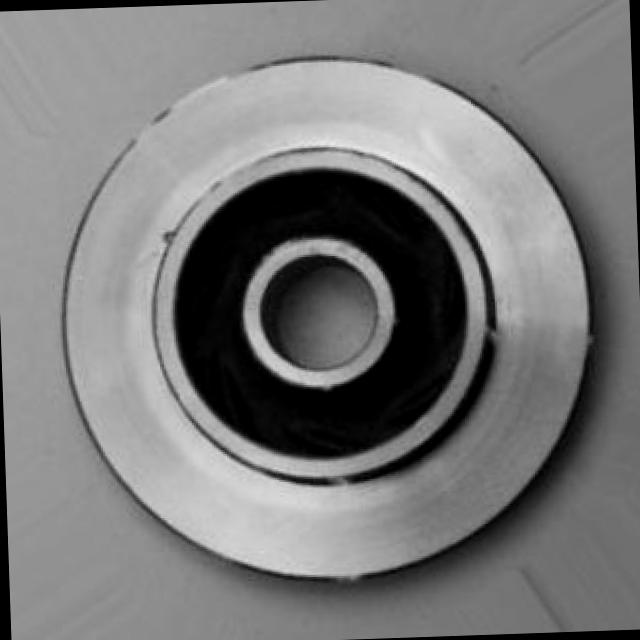Defect: (154, 224, 185, 249)
